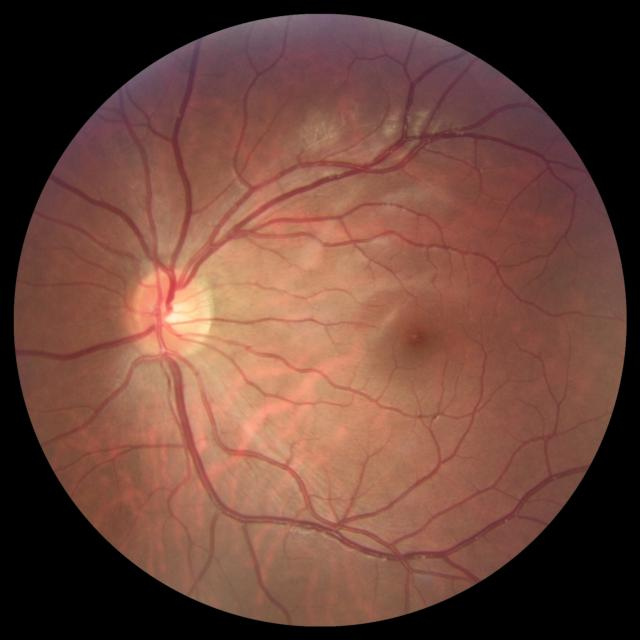OC: (158, 297, 193, 333)
OD: (132, 266, 212, 358)
